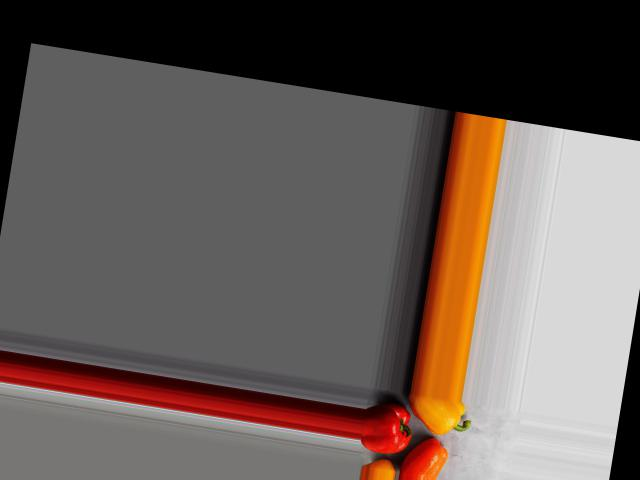bell_pepper: (360, 395, 415, 456)
